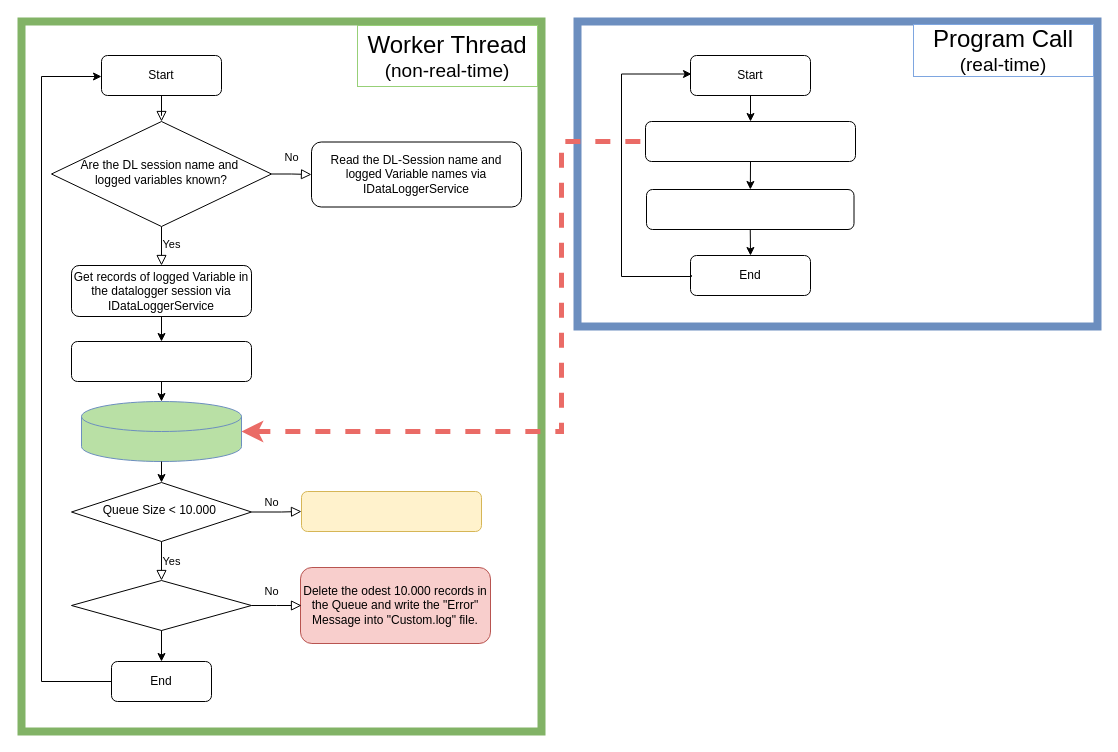
Image size: 1118x752. Some labels were removed from this diagram. The shapes that lost their labels are listed below. From the top down, each one's box as (x1, y1, x2, y2) in pixels, then its label:
(644, 120, 856, 162): Get the last record of logged variables in the Queue
(646, 188, 854, 230): Copy the Data into PN-Output Buffer
(70, 340, 252, 382): Store records of logged Variable into Queue
(80, 400, 242, 462): Queue (FIFO)
(300, 490, 482, 532): Write the "Warning" Message into "Custom.log" file.
(70, 580, 252, 630): Queue Size < 100.000
